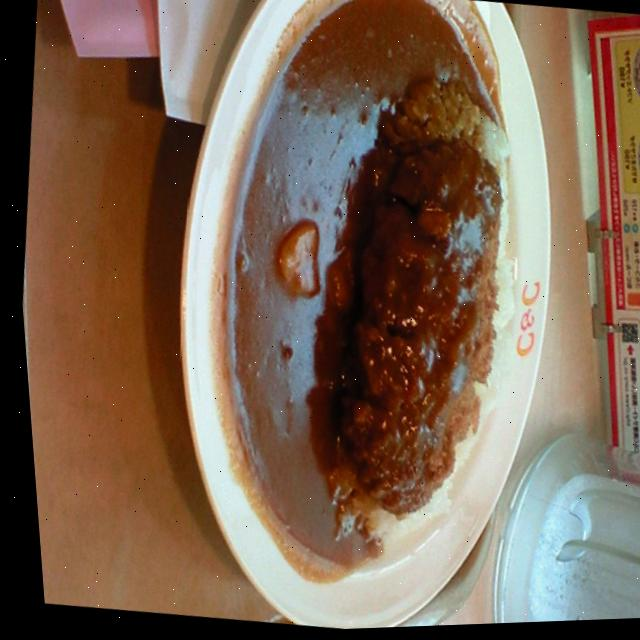猪肉菜式: (113, 0, 610, 637)
